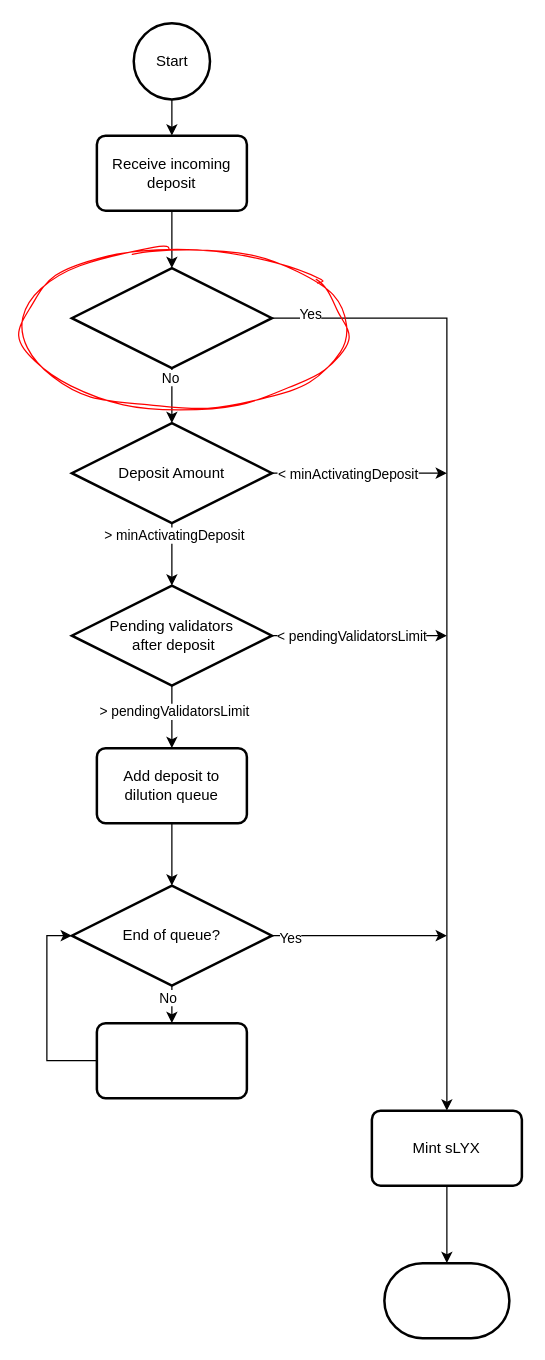
Some shapes in this 545 by 1360 pixel diagram are drawn without their labels. The centre of each missing label's shape, as x and y in pixels:
"Check later" goes at point (171, 1060).
"End" goes at point (446, 1300).
"Match with unstake?" goes at point (171, 317).
